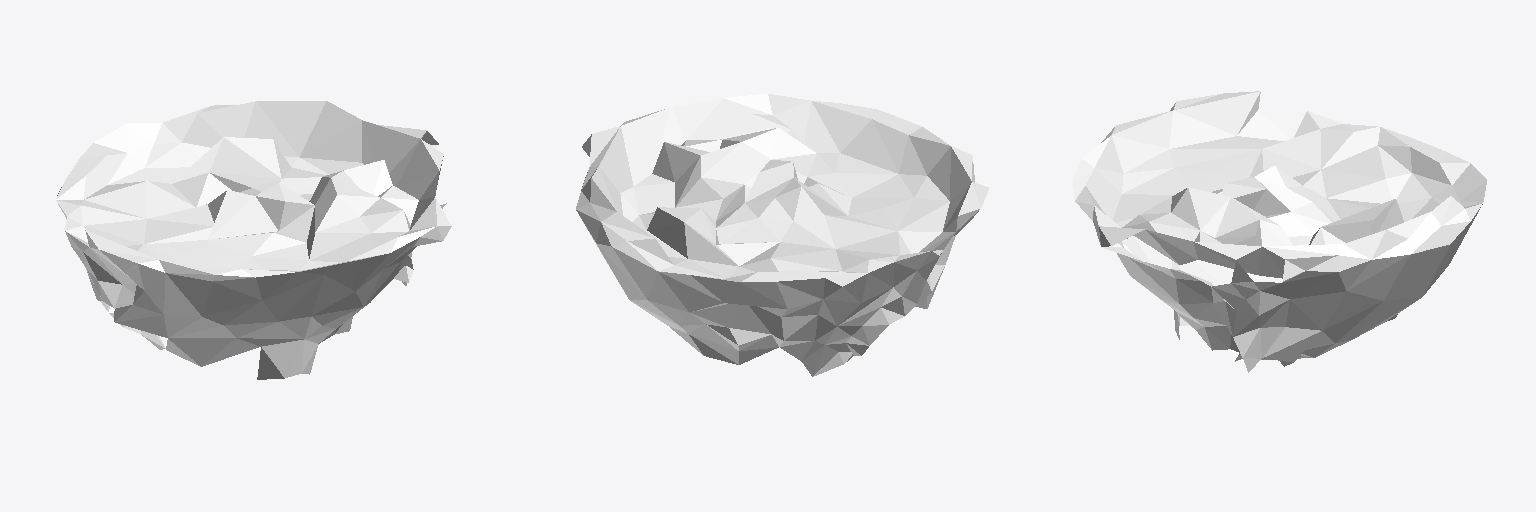
Rendered from kimchiobj.obj.
The picture shows the model from 3 angles: view 1: azimuth 30°, elevation 25°; view 2: azimuth 150°, elevation 25°; view 3: azimuth 270°, elevation 25°; orthographic projection.
Visible parts, largest first — view 1: map_384fce16-5750-4561-baf7-d76f0eaf28a3_densified_mesh_texture; view 2: map_384fce16-5750-4561-baf7-d76f0eaf28a3_densified_mesh_texture; view 3: map_384fce16-5750-4561-baf7-d76f0eaf28a3_densified_mesh_texture.
Boxes of the visible parts, <box> form: map_384fce16-5750-4561-baf7-d76f0eaf28a3_densified_mesh_texture: <box>56,101,451,379</box>; map_384fce16-5750-4561-baf7-d76f0eaf28a3_densified_mesh_texture: <box>576,94,988,376</box>; map_384fce16-5750-4561-baf7-d76f0eaf28a3_densified_mesh_texture: <box>1073,91,1486,372</box>.
Bounding box in the file's own units: 0.2234 × 0.0997 × 0.2166.